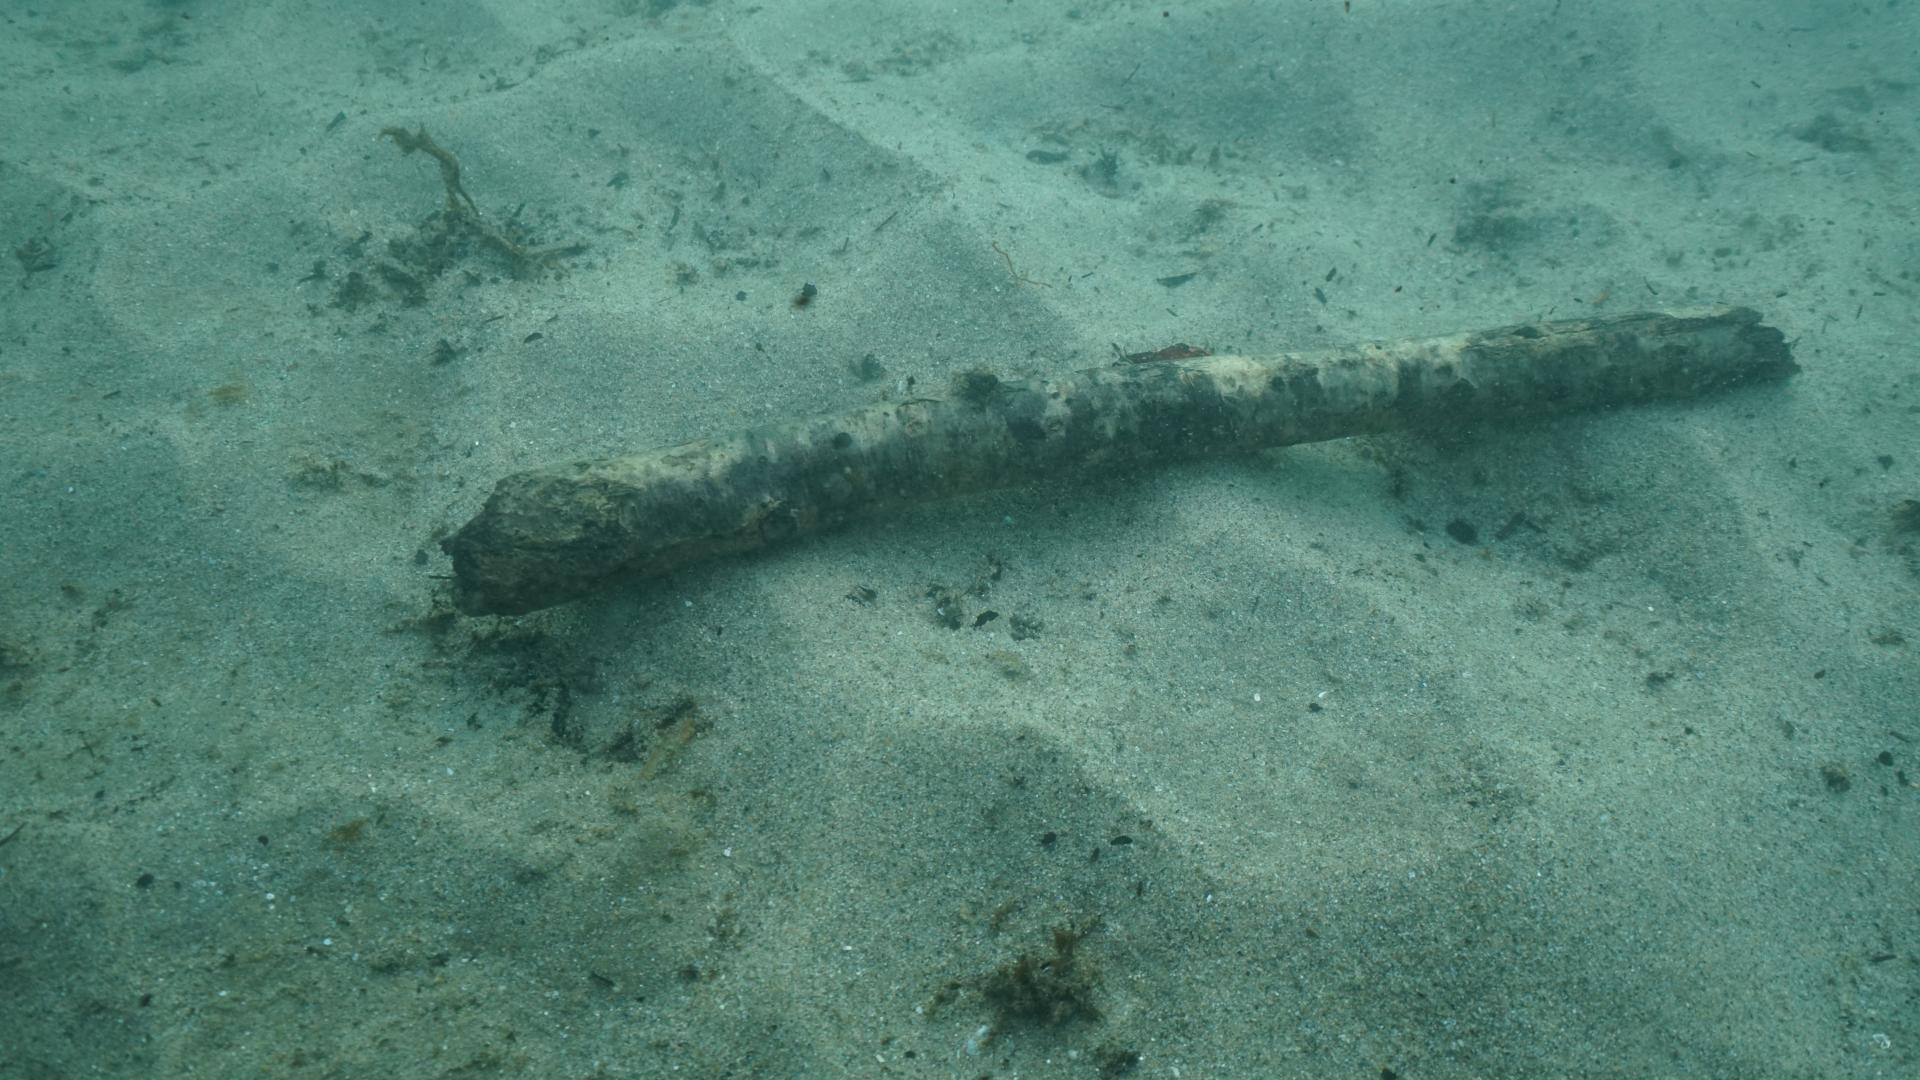wood: (434, 305, 1797, 618)
